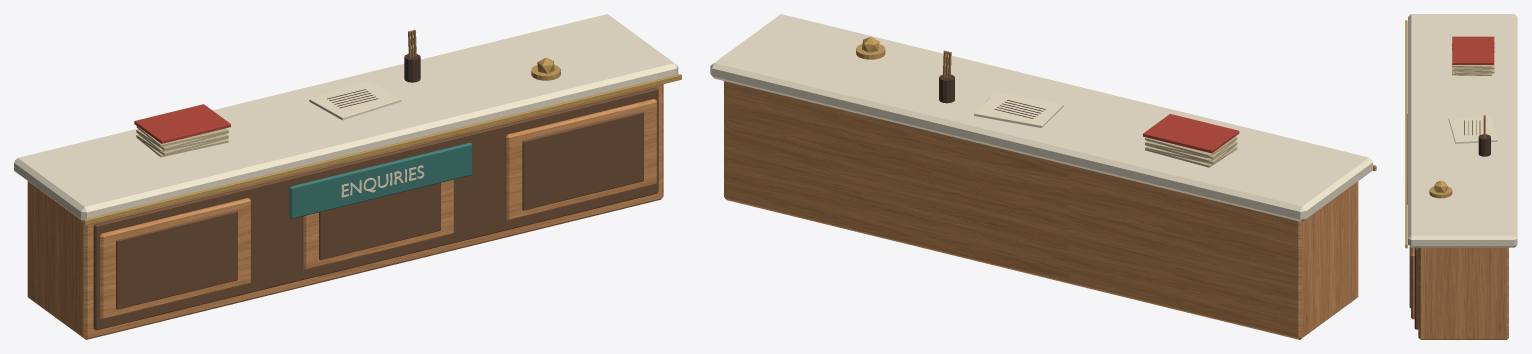
3 renders of one model, left to right at view 1: azimuth 30°, elevation 25°; view 2: azimuth 150°, elevation 25°; view 3: azimuth 270°, elevation 25°, orthographic. The views are drawn at different scales.
Parts seen in each view (by area): view 1: square_wood_dark, square_limestone_pale, square_oak, square_teal, square_brass, square_red, square_paper, square_pages, square_ink, square_enamel_cream; view 2: square_oak, square_limestone_pale, square_red, square_paper, square_pages, square_ink, square_brass; view 3: square_limestone_pale, square_oak, square_red, square_paper, square_brass, square_wood_dark, square_pages, square_ink.
Part boxes in pixels (box(x1,y1,x2,y2)): square_wood_dark: box(93, 87, 658, 330); square_limestone_pale: box(14, 14, 678, 221); square_oak: box(27, 84, 663, 339); square_teal: box(289, 142, 472, 218); square_brass: box(83, 57, 681, 225); square_red: box(134, 104, 230, 143); square_paper: box(309, 80, 401, 120); square_pages: box(136, 126, 228, 157); square_ink: box(327, 54, 420, 108); square_enamel_cream: box(341, 165, 424, 197); square_oak: box(724, 81, 1358, 339); square_limestone_pale: box(710, 14, 1372, 221); square_red: box(1143, 114, 1239, 153); square_paper: box(974, 92, 1063, 127); square_pages: box(1145, 136, 1237, 167); square_ink: box(939, 74, 1045, 118); square_brass: box(856, 36, 1376, 170); square_limestone_pale: box(1408, 14, 1517, 247); square_oak: box(1411, 247, 1508, 339); square_red: box(1452, 36, 1494, 64); square_paper: box(1448, 116, 1497, 143); square_brass: box(1405, 20, 1452, 248); square_wood_dark: box(1409, 246, 1418, 329); square_pages: box(1452, 42, 1494, 75); square_ink: box(1464, 120, 1490, 156).
Bounding box in the file's own units: 5.56 × 1.68 × 1.18.
11 materials, 1 textured.
